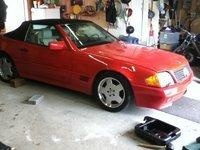car: (1, 8, 200, 117)
